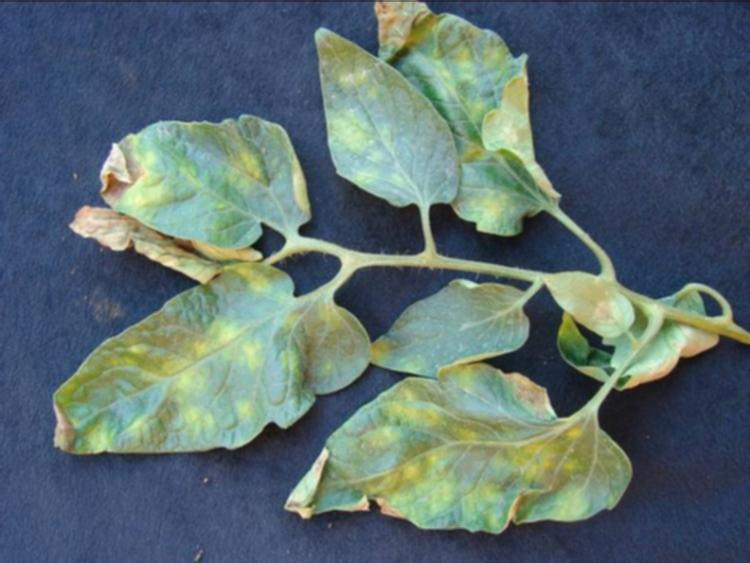Tomato mold leaf: (275, 359, 647, 543), (44, 266, 370, 465), (365, 1, 586, 234), (300, 22, 486, 213), (81, 104, 318, 248), (350, 281, 558, 379), (526, 261, 653, 345)
